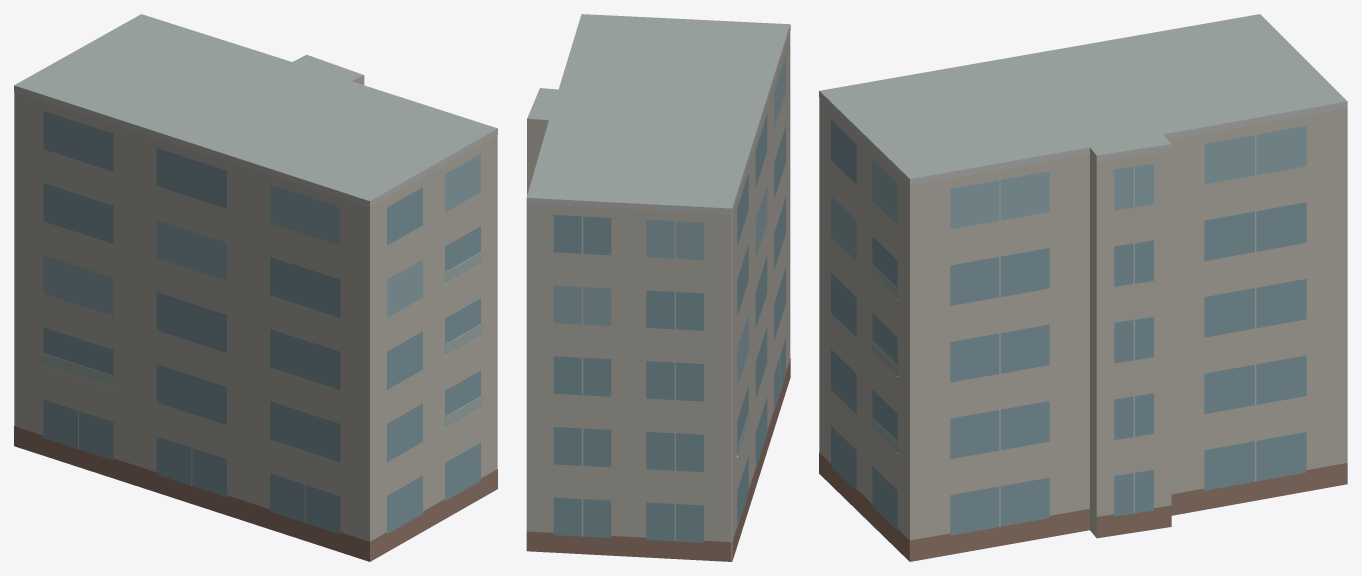
File: survey-upis-32912061.glb
3 renders of one model, left to right at view 1: azimuth 30°, elevation 25°; view 2: azimuth 150°, elevation 25°; view 3: azimuth 270°, elevation 25°, orthographic. The views are drawn at different scales.
Visible parts, largest first — view 1: survey-upis-32912061.tmp; view 2: survey-upis-32912061.tmp; view 3: survey-upis-32912061.tmp.
Part boxes in pixels (x1,y1,x2,y2): survey-upis-32912061.tmp: (14, 14, 497, 561); survey-upis-32912061.tmp: (526, 14, 790, 561); survey-upis-32912061.tmp: (819, 14, 1347, 561).
Size of the model in its own units: 13.05 by 14.1 by 17.65.
